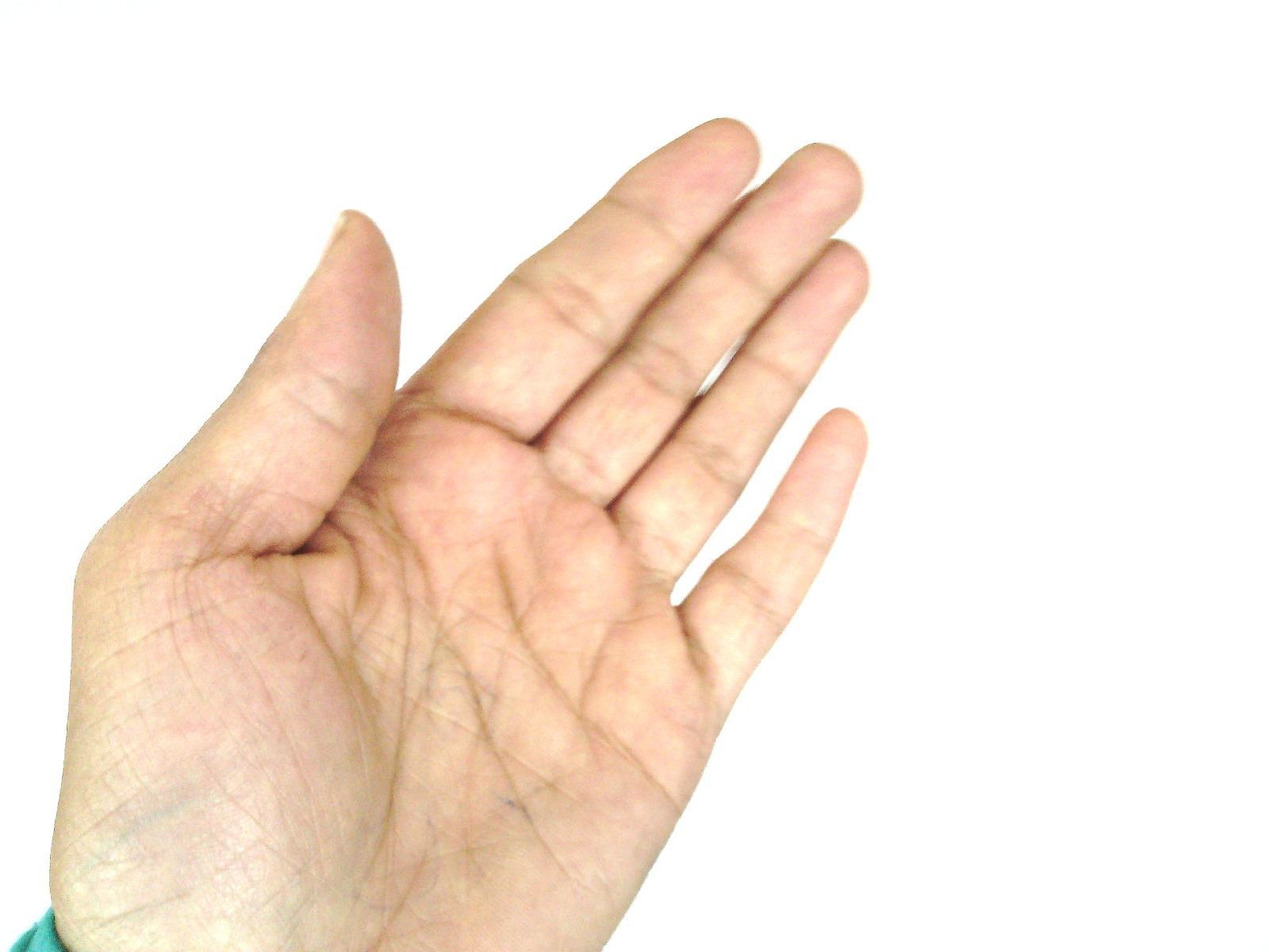open_palm: (44, 116, 876, 952)
